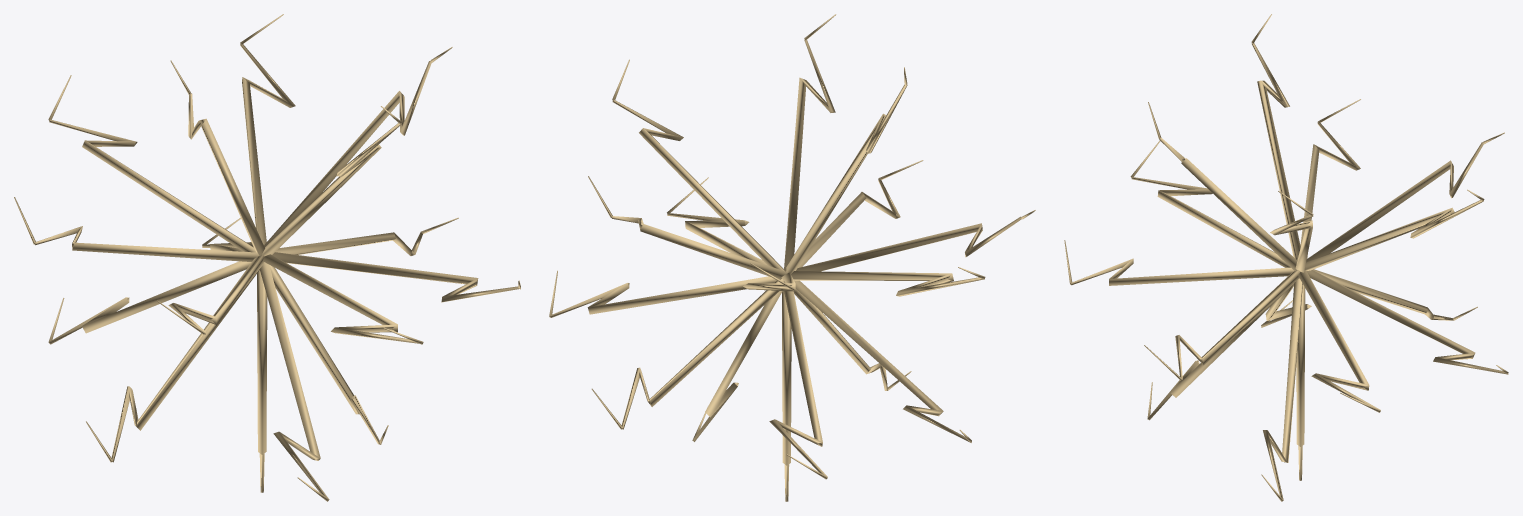
Rendered from succulent_tumbleweed.glb.
3 renders of one model, left to right at view 1: azimuth 30°, elevation 25°; view 2: azimuth 150°, elevation 25°; view 3: azimuth 270°, elevation 25°, orthographic. The views are drawn at different scales.
Visible parts, largest first — view 1: Flora_Tumbleweed; view 2: Flora_Tumbleweed; view 3: Flora_Tumbleweed.
Boxes of the visible parts, left/top/right/bottom form: Flora_Tumbleweed: left=14, top=14, right=520, bottom=501; Flora_Tumbleweed: left=549, top=14, right=1035, bottom=501; Flora_Tumbleweed: left=1064, top=14, right=1508, bottom=501.
Bounding box in the file's own units: 0.8154 × 0.838 × 0.8042.
